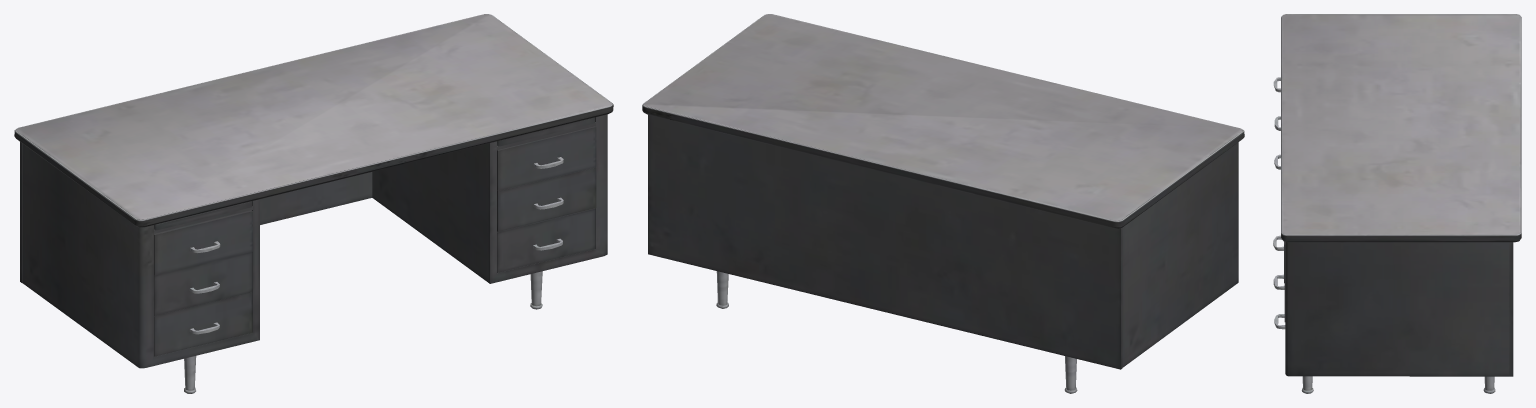
Rendered from desk.glb.
3 views of the same model, side by side, from view 1: azimuth 30°, elevation 25°; view 2: azimuth 150°, elevation 25°; view 3: azimuth 270°, elevation 25° (orthographic). The views are drawn at different scales.
Parts seen in each view (by area): view 1: metal_office_desk_drawer_06; view 2: metal_office_desk_drawer_06; view 3: metal_office_desk_drawer_06.
Boxes of the visible parts, x1,y1,x2,y2 form: metal_office_desk_drawer_06: (14, 14, 613, 393); metal_office_desk_drawer_06: (642, 14, 1244, 393); metal_office_desk_drawer_06: (1273, 14, 1521, 393).
Bounding box in the file's own units: 2 × 0.7867 × 0.9469.
1 material, 1 textured.
